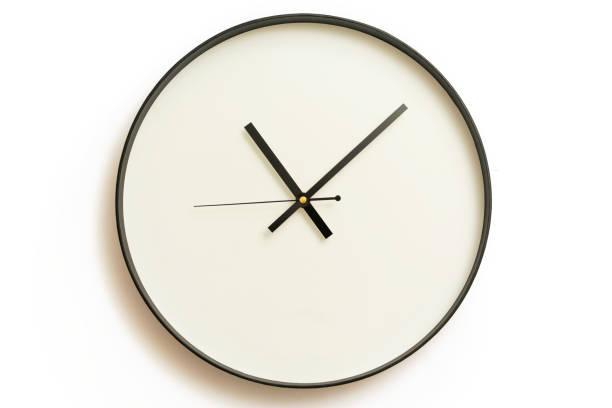clock: (98, 0, 500, 408)
